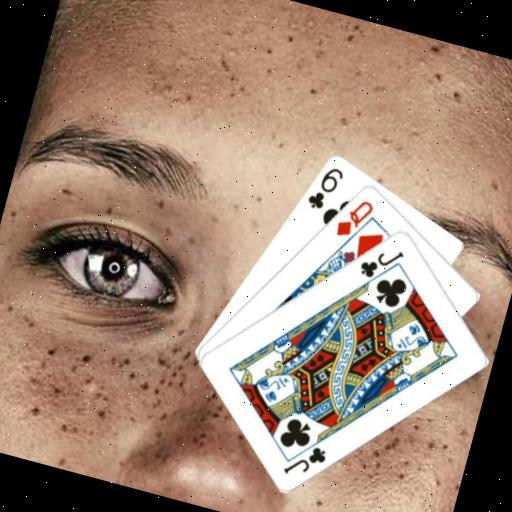6C: (302, 159, 347, 215)
JC: (354, 238, 406, 287), (278, 435, 330, 484)
QD: (331, 190, 377, 244)
